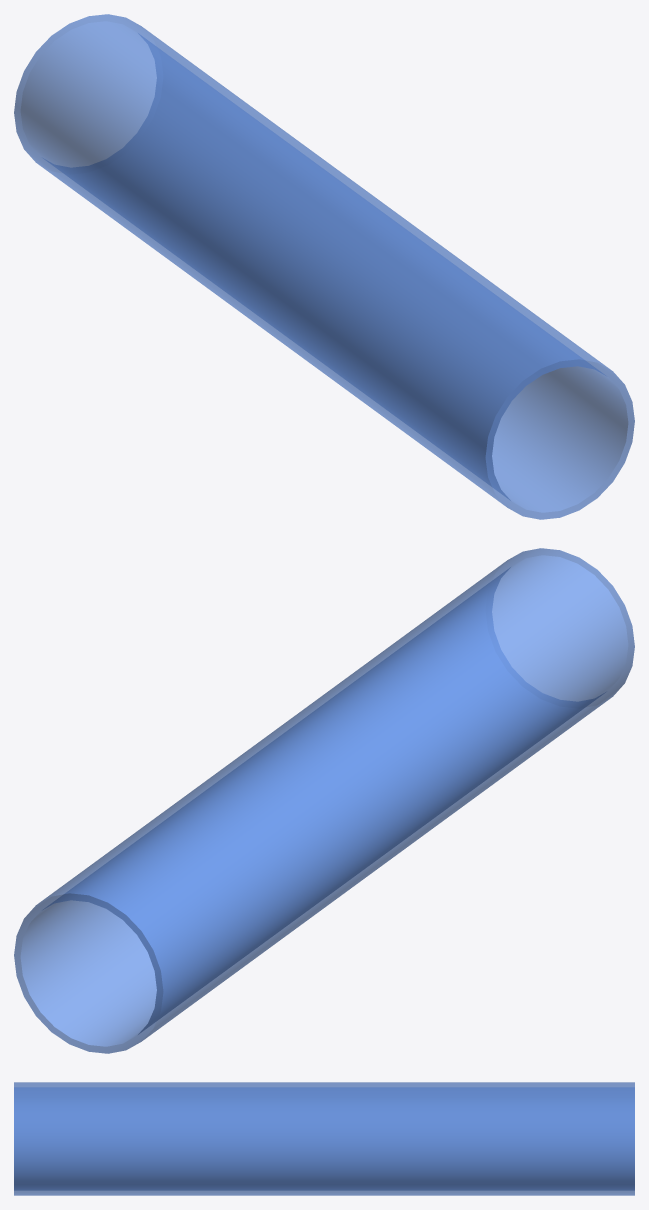
File: tunnel.fbx
The picture shows the model from 3 angles, top to bottom: view 1: azimuth 30°, elevation 25°; view 2: azimuth 150°, elevation 25°; view 3: azimuth 270°, elevation 25°; orthographic projection. The views are drawn at different scales.
Visible parts, largest first — view 1: Layer0_001; view 2: Layer0_001; view 3: Layer0_001.
Boxes of the visible parts, bbox=[...] form: Layer0_001: bbox=[14, 14, 634, 519]; Layer0_001: bbox=[14, 548, 634, 1053]; Layer0_001: bbox=[14, 1082, 634, 1195].
Size of the model in its own units: 147 by 147 by 802.
